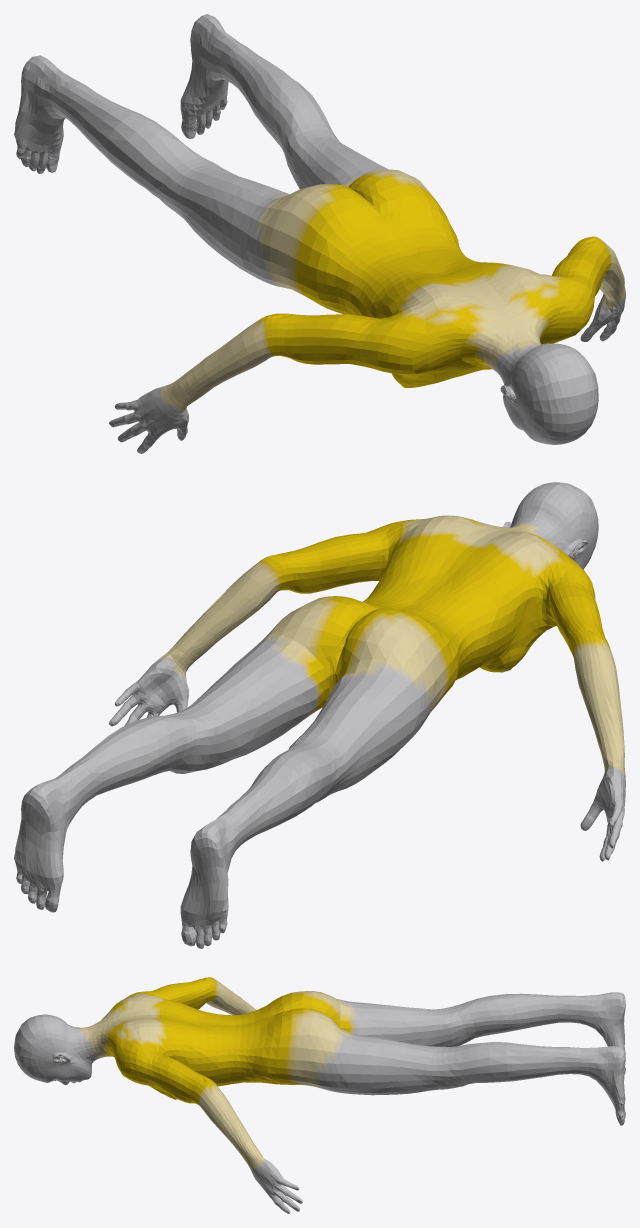
Rendered from avatar_upper.glb.
3 views of the same model, one above another, from view 1: azimuth 30°, elevation 25°; view 2: azimuth 150°, elevation 25°; view 3: azimuth 270°, elevation 25° (orthographic). The views are drawn at different scales.
Parts seen in each view (by area): view 1: world; view 2: world; view 3: world.
Boxes of the visible parts, x1=… form: world: x1=14, y1=14, x2=625, y2=453; world: x1=14, y1=482, x2=625, y2=948; world: x1=14, y1=977, x2=625, y2=1213.
Bounding box in the file's own units: 1.1 × 0.4291 × 1.75.
